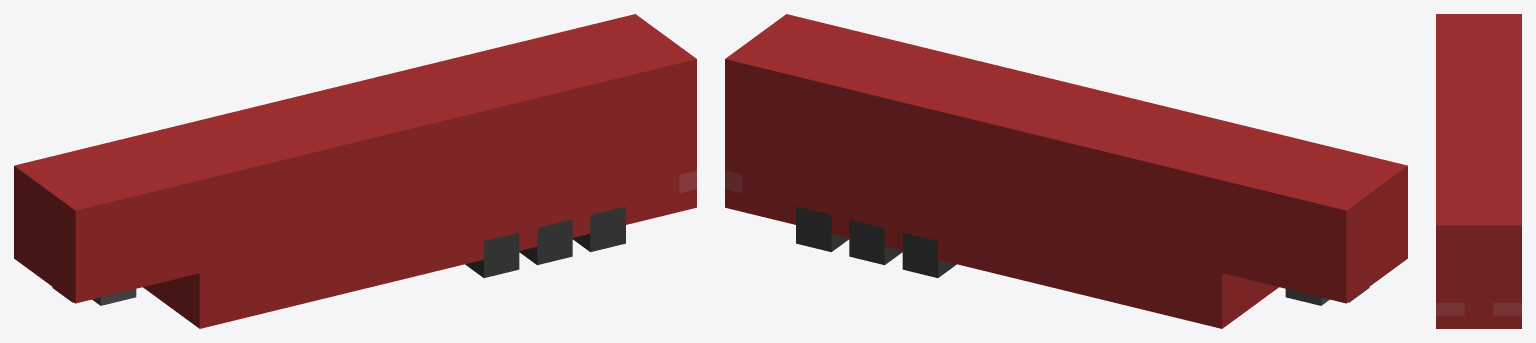
The model's file is semitrailer-v1-red.gltf.
The picture shows the model from 3 angles, left to right: view 1: azimuth 30°, elevation 25°; view 2: azimuth 150°, elevation 25°; view 3: azimuth 270°, elevation 25°; orthographic projection. The views are drawn at different scales.
Visible parts, largest first — view 1: model, wheels; view 2: model, wheels; view 3: model.
Part boxes in pixels (x1,y1,x2,y2): model: (14,14,696,328); wheels: (465,206,625,277); model: (725,14,1407,328); wheels: (796,206,956,277); model: (1436,14,1521,328).
Bounding box in the file's own units: 3.5 × 0.9 × 0.6.
2 materials, 2 textured.
